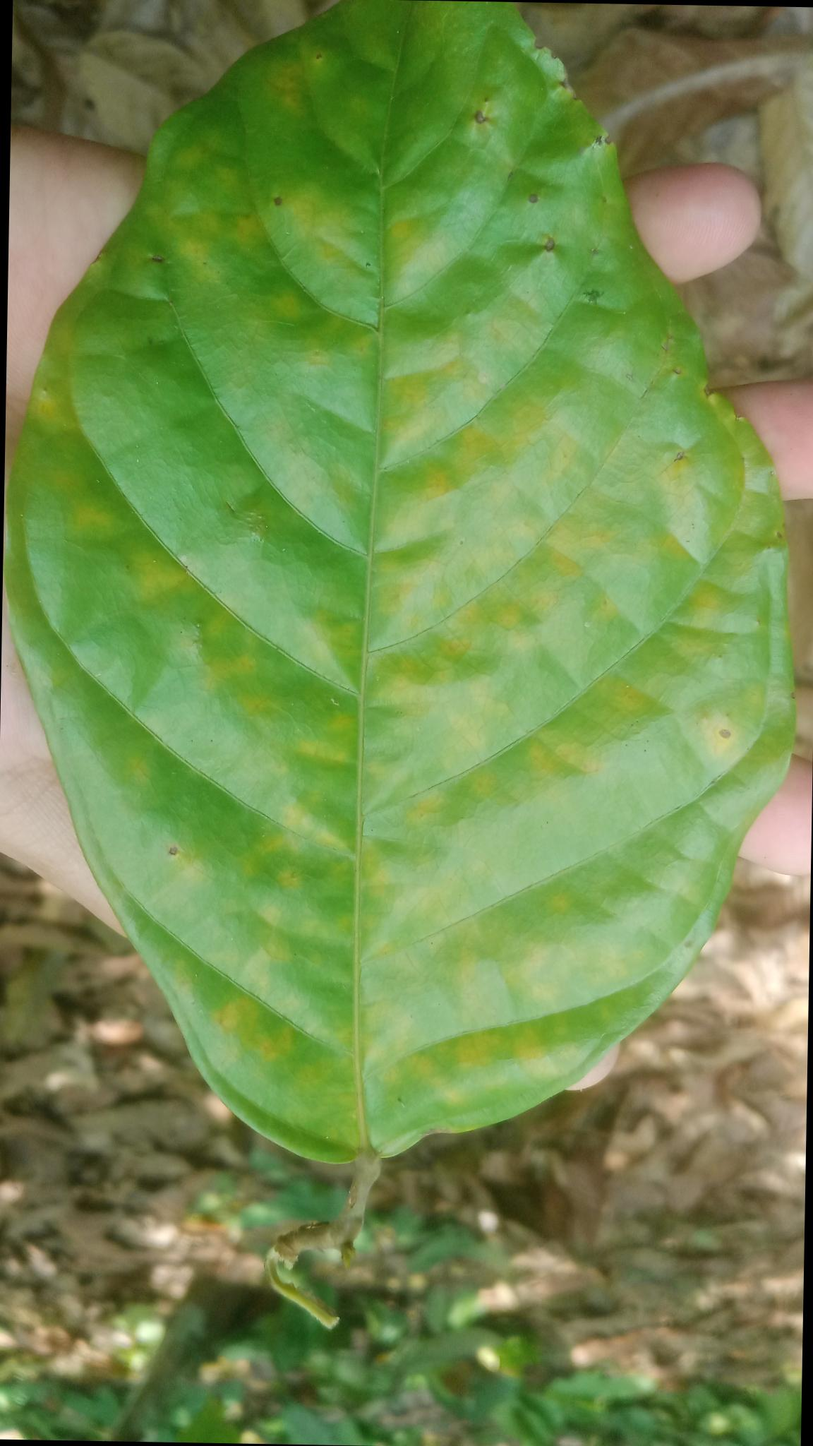Fosforo: (3, 0, 794, 1167)
